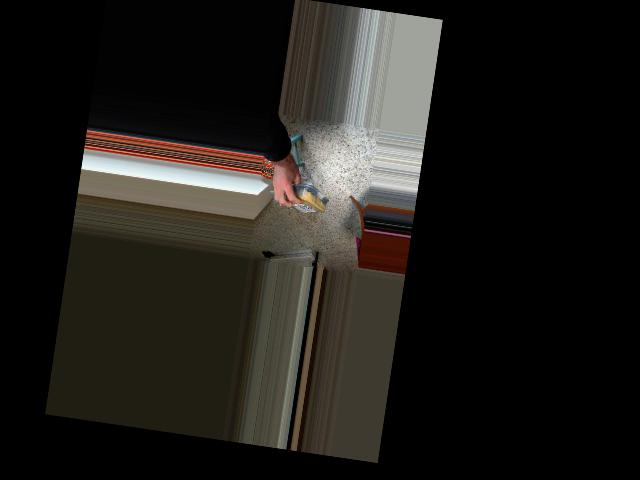cheese: (275, 179, 332, 219)
